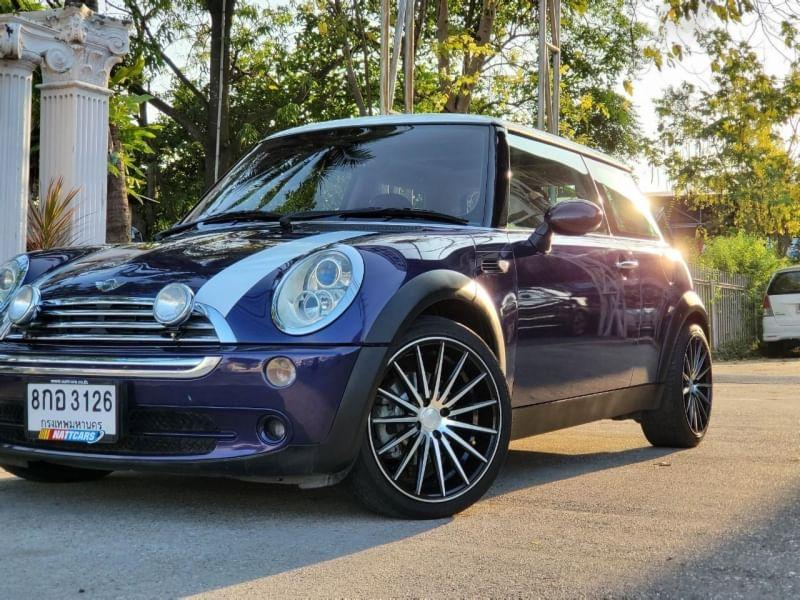license-plate: (22, 372, 129, 458)
